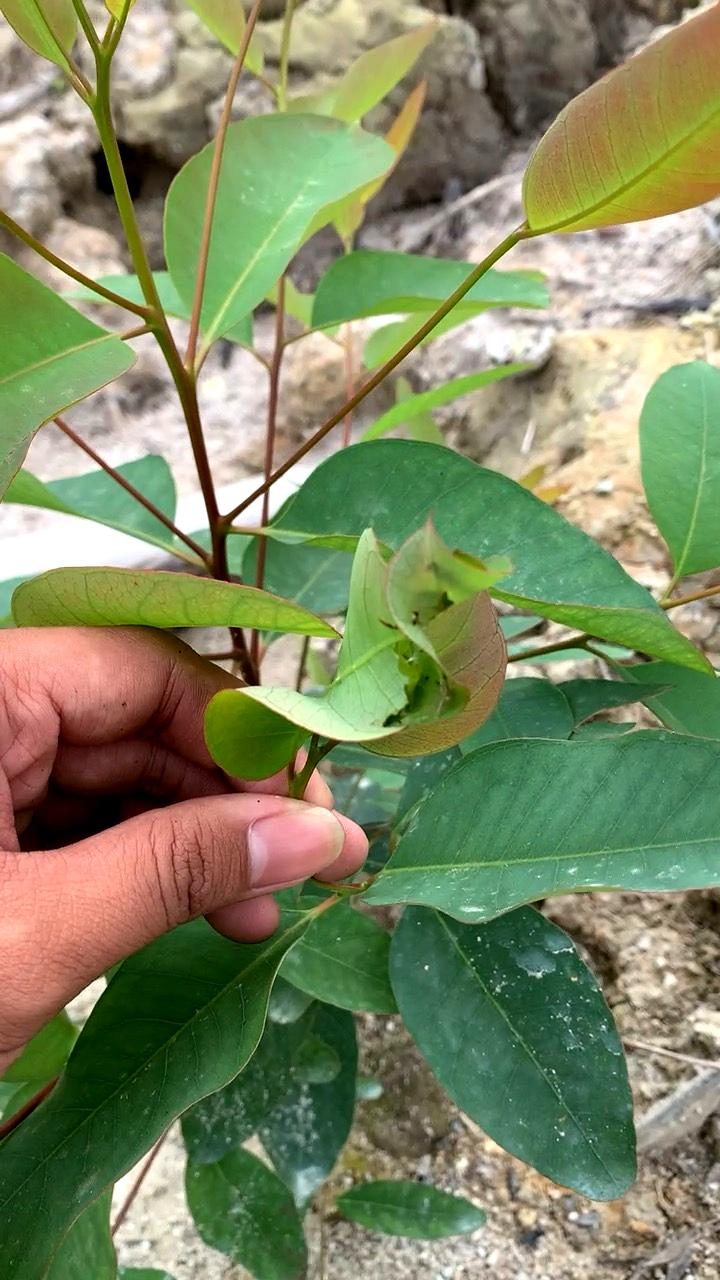Leaf Roller - Leaf: (201, 486, 540, 904)
